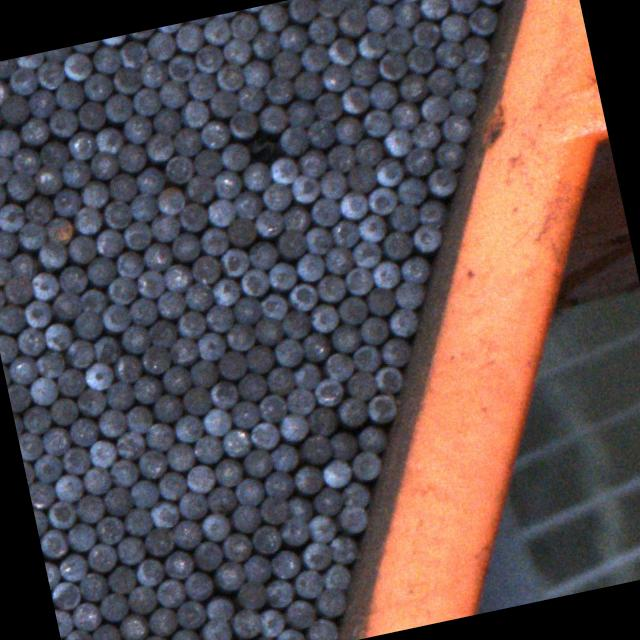tool: (314, 586, 349, 620), (178, 384, 212, 418), (138, 342, 172, 376), (281, 598, 315, 632), (364, 391, 398, 424), (218, 531, 252, 564), (464, 3, 498, 36), (96, 591, 130, 624), (125, 582, 158, 616), (334, 395, 368, 428), (452, 57, 486, 90), (62, 336, 96, 369), (114, 534, 148, 567), (356, 422, 389, 456), (142, 30, 176, 63), (364, 183, 398, 216), (298, 432, 332, 465), (424, 64, 457, 98), (49, 578, 82, 612), (70, 309, 104, 342), (336, 502, 370, 535), (262, 467, 296, 500), (1, 272, 34, 306), (229, 604, 262, 638), (113, 428, 146, 461), (226, 106, 259, 139), (424, 164, 457, 197), (44, 498, 77, 531), (308, 195, 341, 228), (445, 85, 478, 118), (143, 419, 176, 452), (147, 211, 180, 244), (318, 59, 351, 92), (225, 215, 258, 248), (439, 112, 472, 145), (321, 351, 354, 384), (181, 568, 214, 601), (269, 547, 302, 580), (301, 539, 334, 572), (344, 160, 377, 193), (256, 493, 289, 526), (58, 156, 92, 188), (312, 375, 346, 407), (306, 12, 338, 46), (235, 368, 267, 402), (92, 514, 126, 546), (84, 540, 116, 574), (132, 556, 166, 588), (142, 130, 176, 162), (248, 524, 282, 556), (334, 294, 368, 326), (290, 566, 324, 598), (276, 226, 308, 260), (263, 364, 295, 398), (100, 484, 132, 518), (262, 576, 294, 610), (386, 304, 418, 338), (344, 368, 376, 402), (2, 170, 36, 202), (192, 42, 225, 74), (310, 483, 342, 516), (160, 364, 192, 397), (174, 597, 206, 630), (120, 113, 152, 146), (230, 292, 262, 325), (223, 320, 256, 352), (241, 445, 273, 478), (102, 91, 134, 124), (136, 447, 168, 480), (203, 484, 236, 516), (56, 550, 89, 582), (388, 100, 421, 132), (242, 342, 274, 375), (162, 152, 195, 184), (324, 34, 357, 66), (286, 280, 319, 312), (188, 253, 220, 286), (177, 488, 210, 520), (115, 140, 147, 173), (162, 547, 194, 580), (75, 569, 107, 602), (152, 575, 184, 608), (409, 222, 442, 254), (392, 279, 425, 311), (239, 161, 271, 194), (57, 262, 89, 295), (378, 334, 411, 366), (6, 352, 38, 385), (247, 238, 280, 270), (46, 106, 78, 139), (50, 290, 83, 322), (240, 551, 272, 584), (184, 173, 217, 205), (214, 349, 246, 382), (103, 379, 135, 412), (260, 180, 293, 212), (438, 11, 471, 43), (190, 540, 222, 573), (358, 314, 390, 347), (248, 419, 280, 452), (184, 69, 217, 101), (220, 139, 252, 172), (51, 78, 84, 110), (372, 154, 405, 186), (350, 448, 383, 480), (212, 457, 245, 489), (40, 424, 72, 457), (84, 254, 117, 286), (377, 49, 409, 82), (163, 440, 196, 472), (22, 193, 54, 226), (268, 154, 300, 187), (231, 187, 263, 220), (278, 308, 310, 341), (195, 329, 227, 362), (140, 239, 172, 272), (431, 38, 464, 70), (346, 55, 378, 88), (387, 202, 420, 234), (327, 429, 359, 462), (164, 52, 197, 84), (82, 358, 114, 391), (278, 123, 310, 156), (334, 6, 367, 38), (321, 456, 354, 488), (134, 163, 166, 196), (394, 174, 426, 207), (170, 516, 202, 549), (74, 491, 106, 524), (104, 562, 137, 594), (52, 471, 85, 503), (132, 268, 164, 300), (184, 464, 216, 496), (369, 258, 401, 290), (340, 264, 372, 296), (232, 474, 264, 506), (272, 337, 304, 369), (288, 172, 320, 204), (294, 250, 326, 282), (322, 244, 354, 276), (20, 404, 52, 436), (276, 22, 308, 54), (284, 96, 316, 128), (252, 206, 284, 238), (338, 82, 370, 114), (27, 374, 59, 406), (201, 404, 233, 436), (60, 48, 92, 80), (304, 118, 336, 150), (255, 392, 287, 424), (16, 218, 48, 250), (218, 245, 250, 277), (198, 224, 230, 256), (306, 302, 338, 334), (191, 434, 223, 466), (336, 190, 368, 222), (296, 42, 328, 74), (105, 170, 137, 202), (126, 296, 158, 328), (146, 604, 178, 636), (155, 185, 187, 217), (130, 372, 162, 404), (219, 426, 251, 458), (20, 298, 52, 330), (119, 322, 151, 354), (150, 392, 182, 424), (276, 412, 308, 444), (80, 70, 112, 102), (366, 78, 398, 110), (130, 85, 162, 117), (326, 142, 358, 174), (66, 130, 98, 162), (70, 600, 102, 632), (26, 88, 58, 120), (100, 199, 132, 231), (396, 72, 428, 104), (104, 275, 136, 307), (228, 502, 260, 534), (175, 200, 207, 232), (380, 125, 412, 157), (32, 450, 64, 482), (53, 366, 85, 398), (76, 99, 108, 131), (146, 316, 178, 348), (402, 42, 434, 74), (312, 90, 344, 122), (191, 146, 223, 178), (168, 230, 200, 262), (418, 93, 450, 125), (330, 322, 362, 354), (210, 276, 242, 308), (204, 592, 236, 624), (212, 558, 244, 590), (350, 237, 382, 269), (283, 384, 315, 416), (188, 357, 220, 389), (122, 506, 154, 538), (198, 511, 230, 543), (149, 498, 181, 530), (410, 18, 442, 50), (38, 138, 70, 170), (267, 441, 299, 473), (382, 228, 414, 260), (166, 335, 198, 367), (198, 117, 230, 149), (364, 284, 396, 316), (306, 512, 338, 544), (108, 456, 140, 488), (296, 148, 328, 180), (156, 470, 188, 502), (270, 48, 302, 80), (80, 463, 112, 495), (351, 136, 383, 168), (159, 262, 191, 294), (408, 118, 440, 150), (96, 406, 128, 438), (172, 21, 204, 53), (306, 406, 338, 438), (120, 220, 152, 252), (360, 107, 392, 139), (356, 212, 388, 244), (264, 259, 296, 291), (402, 144, 434, 176), (214, 62, 246, 94), (110, 62, 142, 94), (86, 150, 118, 182), (290, 70, 322, 102), (142, 524, 174, 556), (64, 519, 96, 551), (90, 44, 122, 76), (261, 73, 293, 105), (208, 88, 240, 120), (36, 236, 68, 268), (234, 579, 266, 611), (156, 78, 188, 110), (277, 514, 309, 546), (434, 138, 466, 170), (150, 106, 182, 138), (116, 39, 148, 71), (349, 341, 381, 373), (178, 98, 210, 130), (41, 319, 72, 352), (71, 203, 102, 236), (318, 561, 351, 592), (399, 253, 432, 284), (31, 162, 62, 195), (15, 324, 46, 356), (362, 3, 393, 35), (317, 168, 348, 200), (326, 532, 357, 564), (111, 352, 142, 384), (155, 289, 186, 321), (85, 437, 116, 469), (59, 444, 90, 476), (99, 302, 130, 334), (254, 1, 286, 32), (182, 281, 213, 313), (74, 386, 105, 418), (30, 270, 61, 302), (328, 218, 359, 250), (6, 64, 37, 96), (293, 464, 324, 496), (300, 332, 331, 364), (248, 29, 280, 60), (94, 226, 125, 258), (314, 272, 345, 304), (33, 57, 64, 89), (48, 394, 79, 426), (228, 10, 260, 41), (17, 115, 49, 146), (65, 232, 96, 264), (68, 414, 99, 446), (259, 288, 290, 320), (281, 202, 312, 234), (93, 126, 125, 157), (416, 197, 448, 228), (201, 14, 232, 46), (251, 316, 282, 348), (33, 348, 65, 379), (234, 83, 265, 115), (91, 334, 122, 366), (304, 223, 334, 256), (38, 525, 68, 558), (0, 93, 30, 126), (240, 267, 271, 298), (173, 412, 204, 443), (174, 308, 205, 339), (204, 196, 235, 227), (256, 103, 287, 134), (460, 34, 491, 65), (383, 23, 414, 54), (51, 186, 82, 217), (212, 169, 242, 201), (202, 302, 232, 334), (172, 124, 202, 156), (138, 57, 168, 89), (332, 114, 362, 146), (128, 477, 158, 509), (10, 146, 40, 178), (122, 403, 152, 435), (200, 613, 235, 640), (127, 192, 158, 222), (220, 36, 251, 66), (371, 364, 402, 394), (79, 178, 110, 208), (229, 398, 260, 428), (45, 215, 75, 246), (242, 59, 272, 90), (340, 478, 371, 508), (290, 360, 320, 391), (116, 611, 148, 640), (257, 604, 286, 636), (208, 380, 238, 410), (114, 250, 144, 280), (356, 30, 386, 60), (79, 286, 109, 316), (7, 250, 36, 280), (28, 477, 56, 508), (388, 0, 419, 28), (0, 200, 26, 233), (0, 301, 26, 334), (305, 616, 340, 640), (288, 493, 316, 523), (17, 430, 44, 461), (285, 0, 317, 22), (7, 381, 30, 411), (417, 0, 449, 21), (89, 621, 122, 640), (0, 127, 19, 158), (0, 227, 17, 259), (42, 46, 72, 64), (16, 52, 46, 70), (54, 606, 72, 635), (314, 0, 344, 17), (0, 331, 17, 361), (44, 558, 61, 587), (33, 505, 49, 535), (165, 626, 199, 640), (60, 626, 93, 640), (446, 0, 479, 14), (341, 0, 371, 15), (273, 626, 305, 640), (72, 40, 100, 54), (22, 457, 36, 485), (0, 154, 12, 186), (0, 57, 17, 78), (127, 28, 156, 40), (12, 409, 24, 438), (156, 22, 184, 34), (0, 254, 10, 286), (101, 34, 127, 46), (186, 16, 214, 26), (138, 632, 171, 640), (0, 76, 8, 108), (246, 633, 278, 640), (369, 0, 400, 6), (0, 283, 5, 313)
tool_b: (243, 130, 284, 167)
